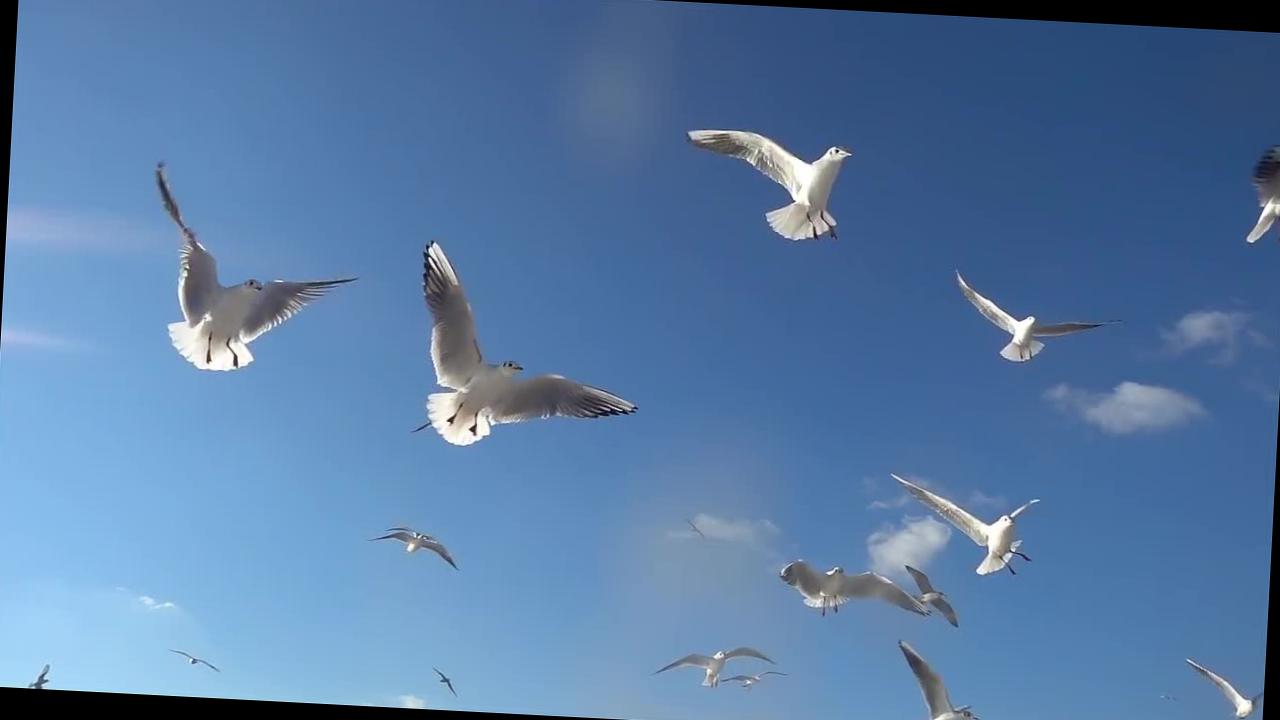bird: (113, 135, 374, 412), (401, 224, 659, 478), (674, 111, 878, 247), (937, 255, 1148, 378), (360, 509, 490, 582)
